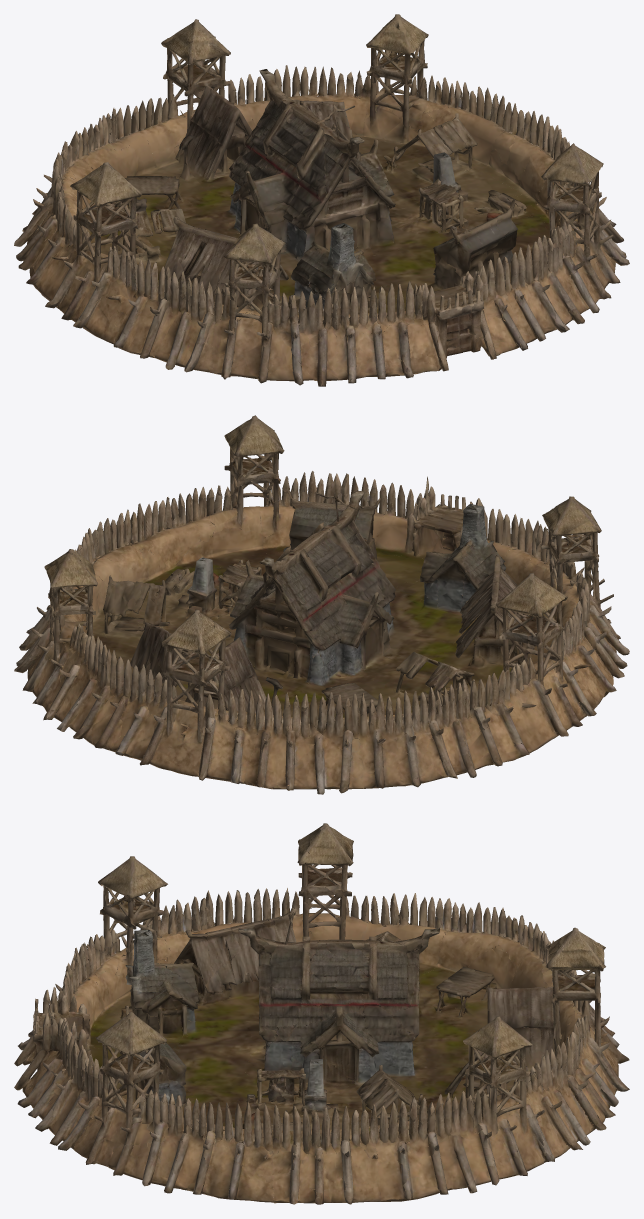
Rendered from Village_Teutons_M.glb.
3 renders of one model, top to bottom at view 1: azimuth 30°, elevation 25°; view 2: azimuth 150°, elevation 25°; view 3: azimuth 270°, elevation 25°, orthographic. The views are drawn at different scales.
Parts seen in each view (by area): view 1: Mesh_0; view 2: Mesh_0; view 3: Mesh_0.
Part boxes in pixels (bbox=[...]): Mesh_0: bbox=[14, 14, 629, 386]; Mesh_0: bbox=[14, 415, 629, 794]; Mesh_0: bbox=[14, 823, 629, 1204].
Size of the model in its own units: 1.9 by 0.5771 by 1.9.
1 material, 1 textured.
